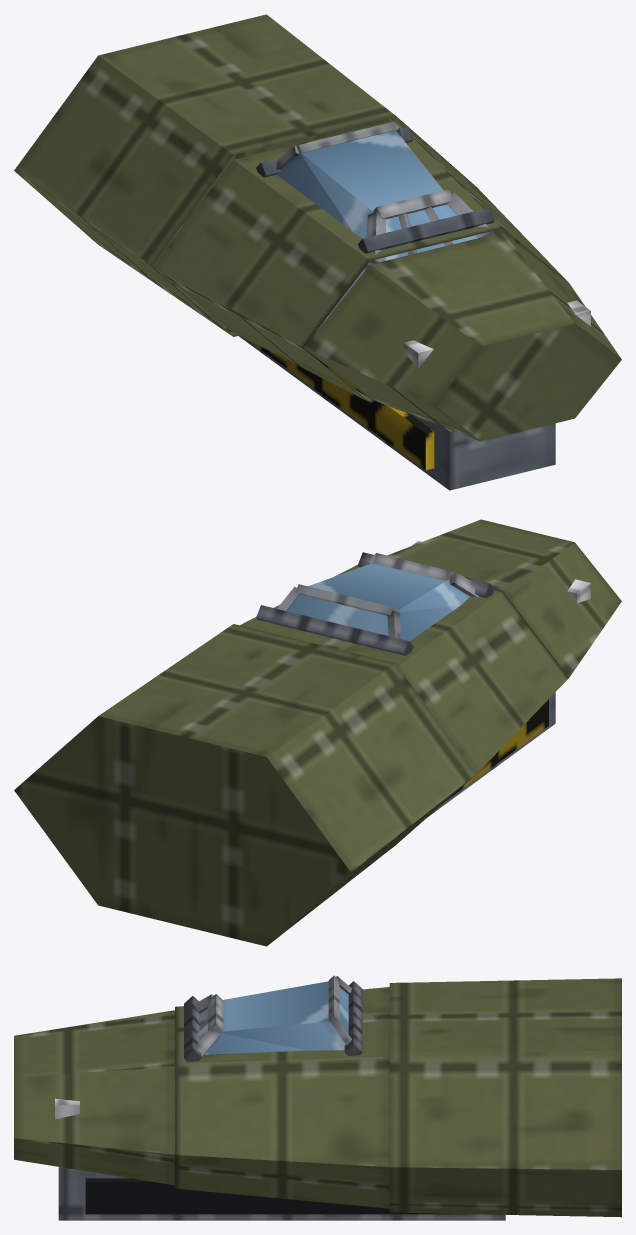
Rendered from ship_mining_cockpit.obj.
3 renders of one model, top to bottom at view 1: azimuth 30°, elevation 25°; view 2: azimuth 150°, elevation 25°; view 3: azimuth 270°, elevation 25°, orthographic. The views are drawn at different scales.
Visible parts, largest first — view 1: hull, canopy, chute, hazard, frame, cage, lights; view 2: hull, canopy, cage, frame, hazard, chute; view 3: hull, canopy, hazard, chute, frame, cage, lights.
Part boxes in pixels (left/top/right/bottom): hull: left=14, top=14, right=621, bottom=441; canopy: left=277, top=130, right=478, bottom=260; chute: left=239, top=267, right=555, bottom=490; hazard: left=248, top=340, right=434, bottom=470; frame: left=276, top=122, right=494, bottom=266; cage: left=256, top=126, right=494, bottom=253; lights: left=404, top=300, right=590, bottom=368; hull: left=14, top=519, right=621, bottom=946; canopy: left=287, top=563, right=469, bottom=641; cage: left=256, top=552, right=494, bottom=655; frame: left=266, top=552, right=478, bottom=653; hazard: left=447, top=699, right=548, bottom=799; chute: left=428, top=692, right=555, bottom=816; hull: left=14, top=978, right=621, bottom=1217; canopy: left=200, top=981, right=348, bottom=1054; hazard: left=85, top=1178, right=467, bottom=1214; chute: left=58, top=1167, right=505, bottom=1220; frame: left=183, top=975, right=351, bottom=1059; cage: left=184, top=981, right=362, bottom=1061; lights: left=55, top=1098, right=79, bottom=1119.
Size of the model in its own units: 1.91 by 1.25 by 3.4.
Materials: 7 (7 with a texture image).
